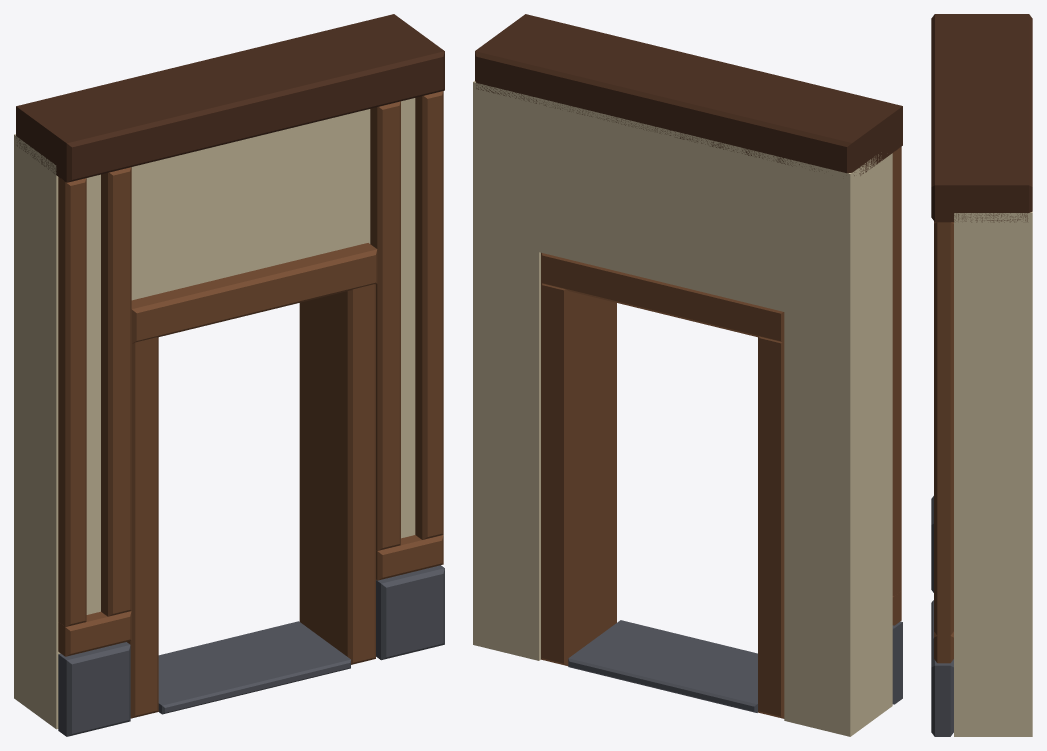
File: WallDoor_06.glb
3 views of the same model, side by side, from view 1: azimuth 30°, elevation 25°; view 2: azimuth 150°, elevation 25°; view 3: azimuth 270°, elevation 25° (orthographic). The views are drawn at different scales.
Parts seen in each view (by area): view 1: WallDoor_06; view 2: WallDoor_06; view 3: WallDoor_06.
Boxes of the visible parts, x1=… form: WallDoor_06: x1=14, y1=14, x2=444, y2=736; WallDoor_06: x1=473, y1=14, x2=902, y2=736; WallDoor_06: x1=931, y1=14, x2=1032, y2=736.
Bounding box in the file's own units: 8 × 12 × 2.
